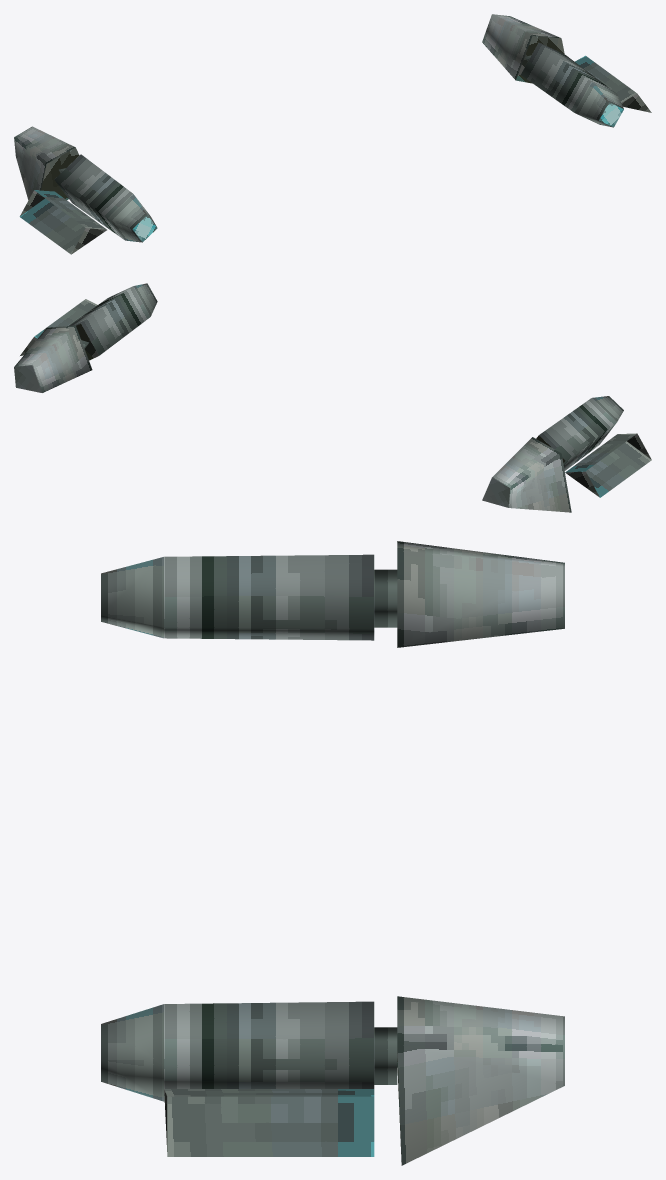
File: black_sun_fighter_heavy_weapon2_s02_l2.fbx
3 renders of one model, top to bottom at view 1: azimuth 30°, elevation 25°; view 2: azimuth 150°, elevation 25°; view 3: azimuth 270°, elevation 25°, orthographic. The views are drawn at different scales.
Parts seen in each view (by area): view 1: mesh_node; view 2: mesh_node; view 3: mesh_node.
Part boxes in pixels (x1,y1,x2,y2): mesh_node: [14, 14, 651, 254]; mesh_node: [14, 283, 651, 512]; mesh_node: [101, 541, 564, 1165].
Bounding box in the file's own units: 5.43 × 0.5827 × 1.88.
1 material, 1 textured.
